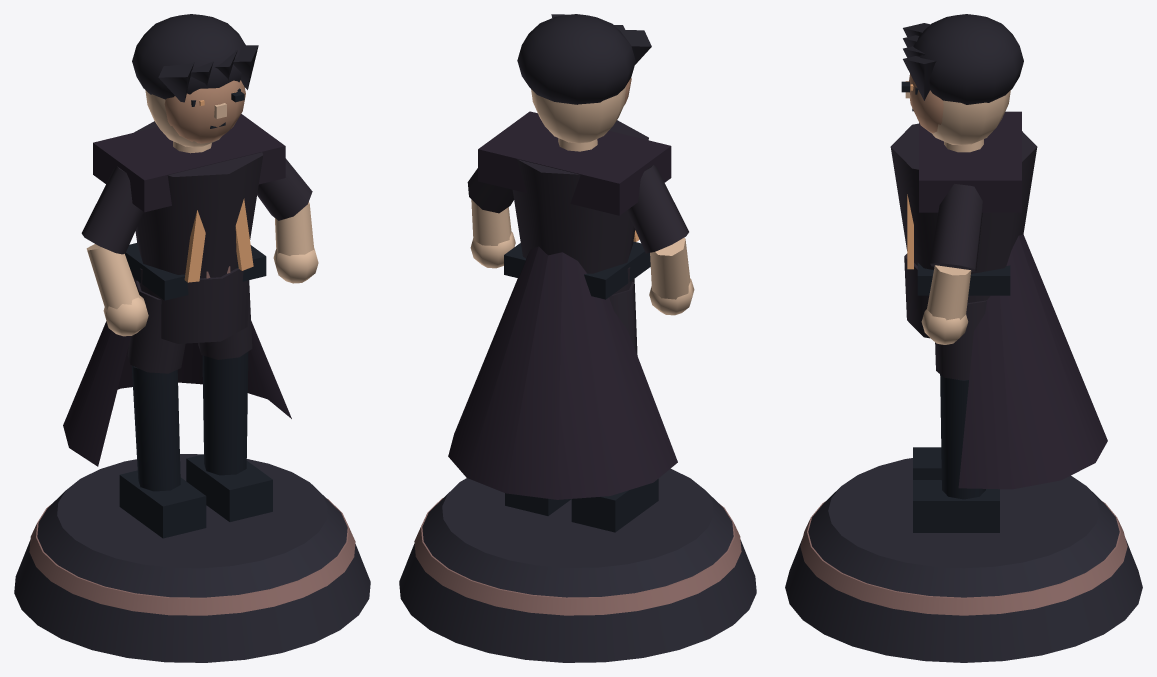
Rendered from obito.glb.
3 renders of one model, left to right at view 1: azimuth 30°, elevation 25°; view 2: azimuth 150°, elevation 25°; view 3: azimuth 270°, elevation 25°, orthographic.
Parts seen in each view (by area): view 1: Placeholder Obito Uchiha; view 2: Placeholder Obito Uchiha; view 3: Placeholder Obito Uchiha.
Part boxes in pixels (box(x1,y1,x2,y2)): Placeholder Obito Uchiha: box(14, 14, 370, 662); Placeholder Obito Uchiha: box(399, 14, 756, 662); Placeholder Obito Uchiha: box(785, 14, 1142, 662).
Size of the model in its own units: 0.54 by 0.9438 by 0.54.
